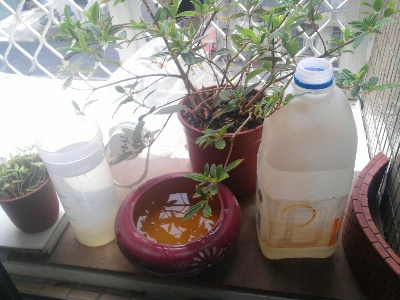bottle: (257, 56, 357, 260), (35, 115, 120, 247)
bowl: (114, 172, 242, 281)
